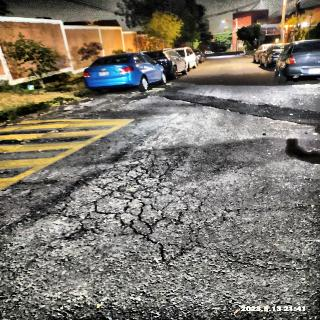alligator-crack: (52, 150, 202, 265)
